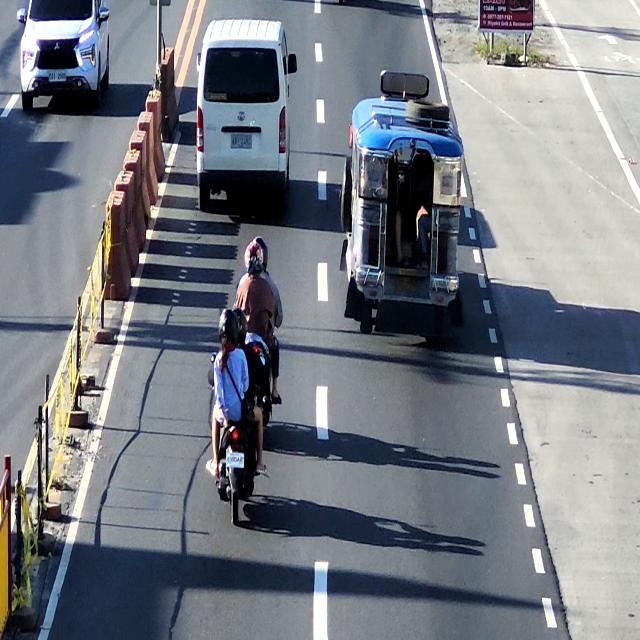Car: (197, 14, 291, 212)
Jeep: (342, 90, 464, 328)
License-Plate: (229, 130, 253, 148), (225, 451, 246, 469)
Motorcycle: (212, 312, 256, 528), (232, 235, 283, 383)
